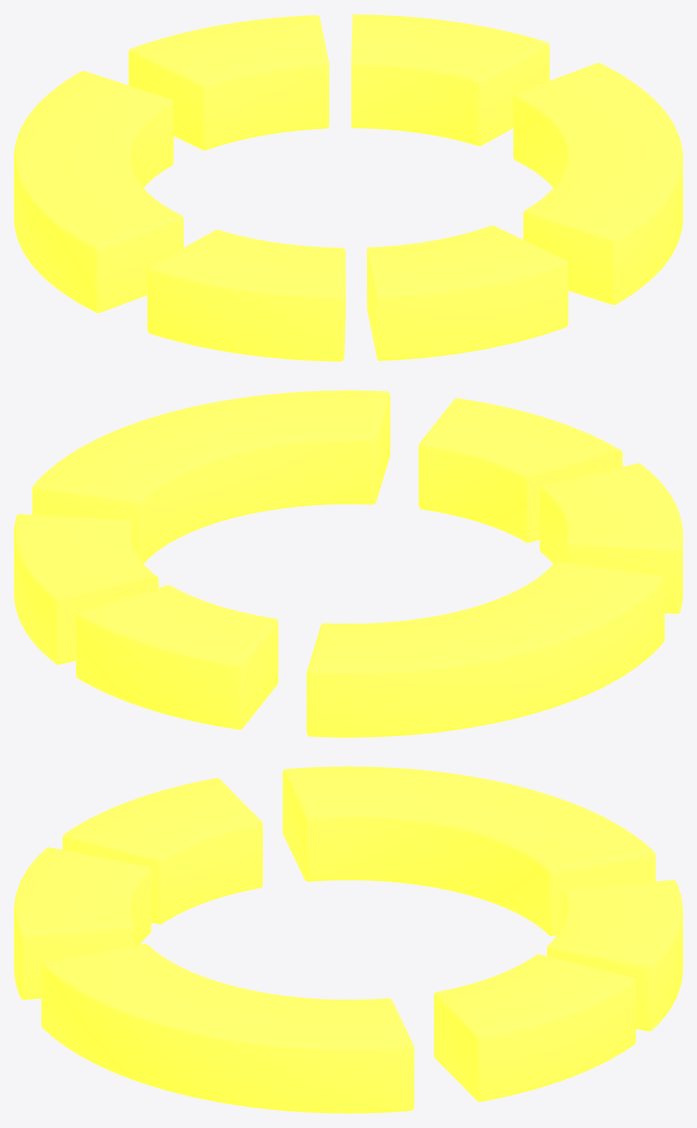
The picture shows the model from 3 angles, top to bottom: view 1: azimuth 30°, elevation 25°; view 2: azimuth 150°, elevation 25°; view 3: azimuth 270°, elevation 25°; orthographic projection.
Parts seen in each view (by area): view 1: 円; view 2: 円; view 3: 円.
Boxes of the visible parts, bbox=[...] form: 円: bbox=[14, 14, 682, 361]; 円: bbox=[14, 390, 682, 737]; 円: bbox=[14, 766, 682, 1113].
Bounding box in the file's own units: 7.46 × 0.8255 × 7.46.
